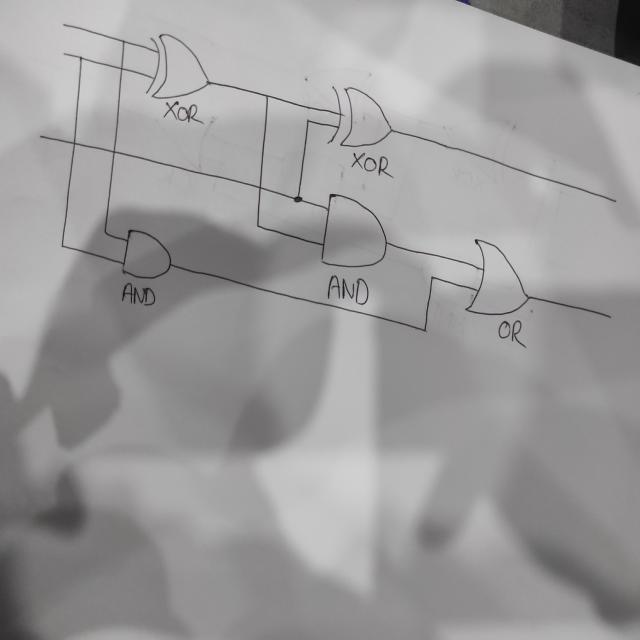crossover: (110, 146, 118, 157), (117, 63, 126, 72), (70, 138, 78, 148), (256, 182, 264, 191)
junction: (426, 270, 438, 285), (291, 193, 303, 205), (101, 226, 110, 238), (263, 90, 271, 102), (420, 324, 428, 335), (119, 36, 127, 46), (304, 116, 312, 126), (253, 220, 260, 230), (58, 240, 65, 250), (77, 54, 84, 61)
terminal: (36, 132, 44, 142), (61, 49, 68, 58), (60, 21, 68, 28), (611, 197, 619, 204), (606, 312, 613, 319)
text: (326, 274, 370, 305), (351, 151, 394, 179), (162, 99, 205, 124), (118, 281, 157, 307), (497, 319, 527, 348)
